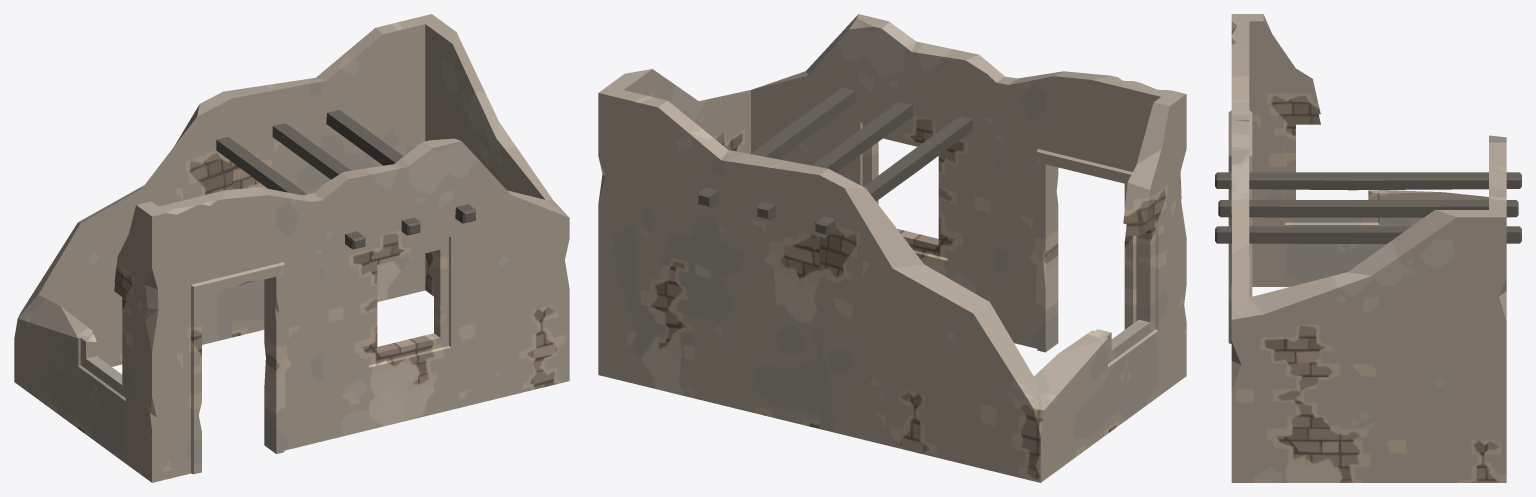
The model's file is SM_Bld_Ruins_03.glb.
The picture shows the model from 3 angles, left to right: view 1: azimuth 30°, elevation 25°; view 2: azimuth 150°, elevation 25°; view 3: azimuth 270°, elevation 25°; orthographic projection. The views are drawn at different scales.
Visible parts, largest first — view 1: SM_Bld_Ruins_03; view 2: SM_Bld_Ruins_03; view 3: SM_Bld_Ruins_03.
Part boxes in pixels (bbox=[...]): SM_Bld_Ruins_03: bbox=[14, 14, 569, 482]; SM_Bld_Ruins_03: bbox=[598, 14, 1186, 482]; SM_Bld_Ruins_03: bbox=[1215, 14, 1521, 482].
Size of the model in its own units: 6.88 by 4.2 by 4.39.
Materials: 1 (1 with a texture image).
